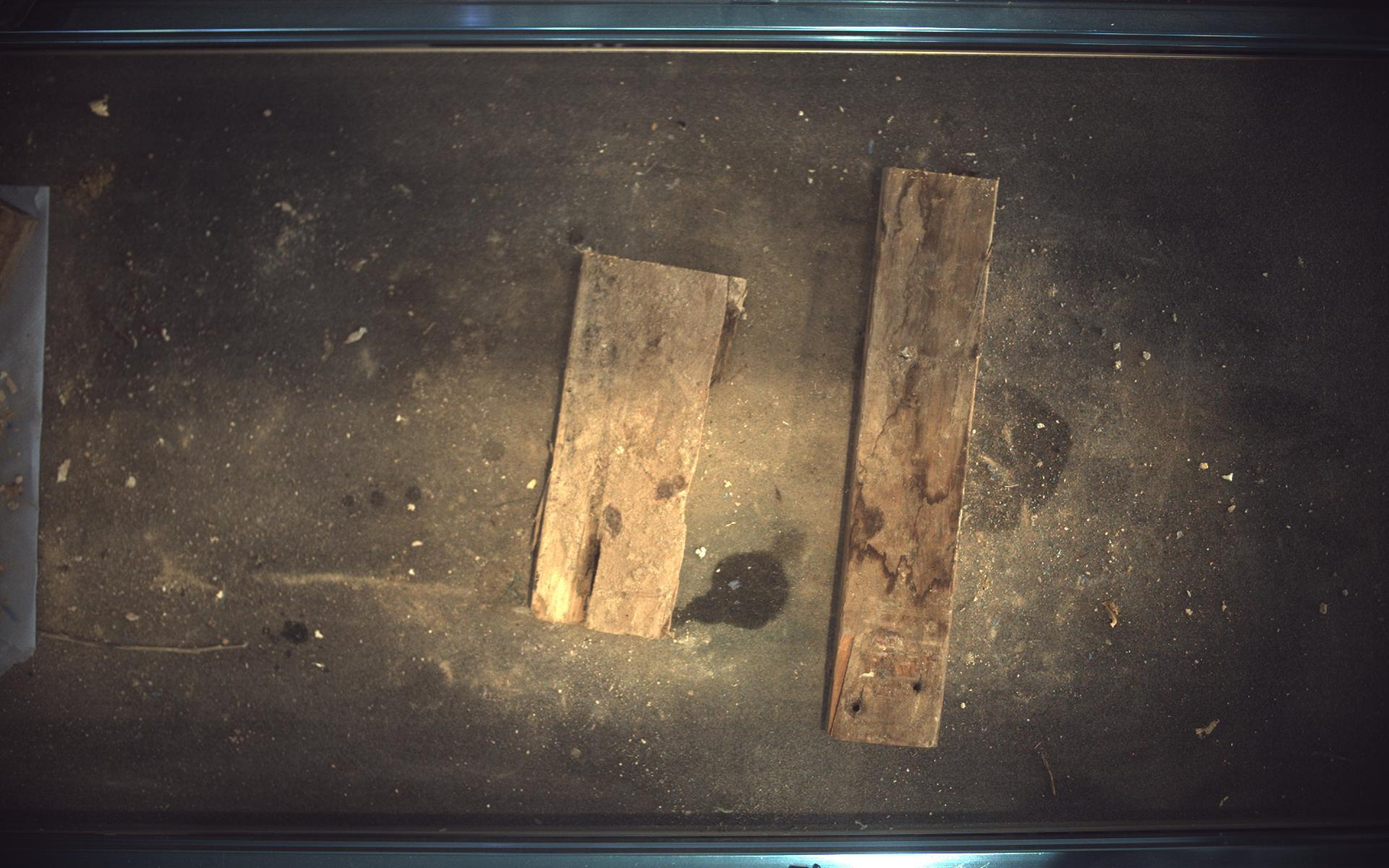wood: (828, 166, 1001, 749), (531, 250, 747, 639)
